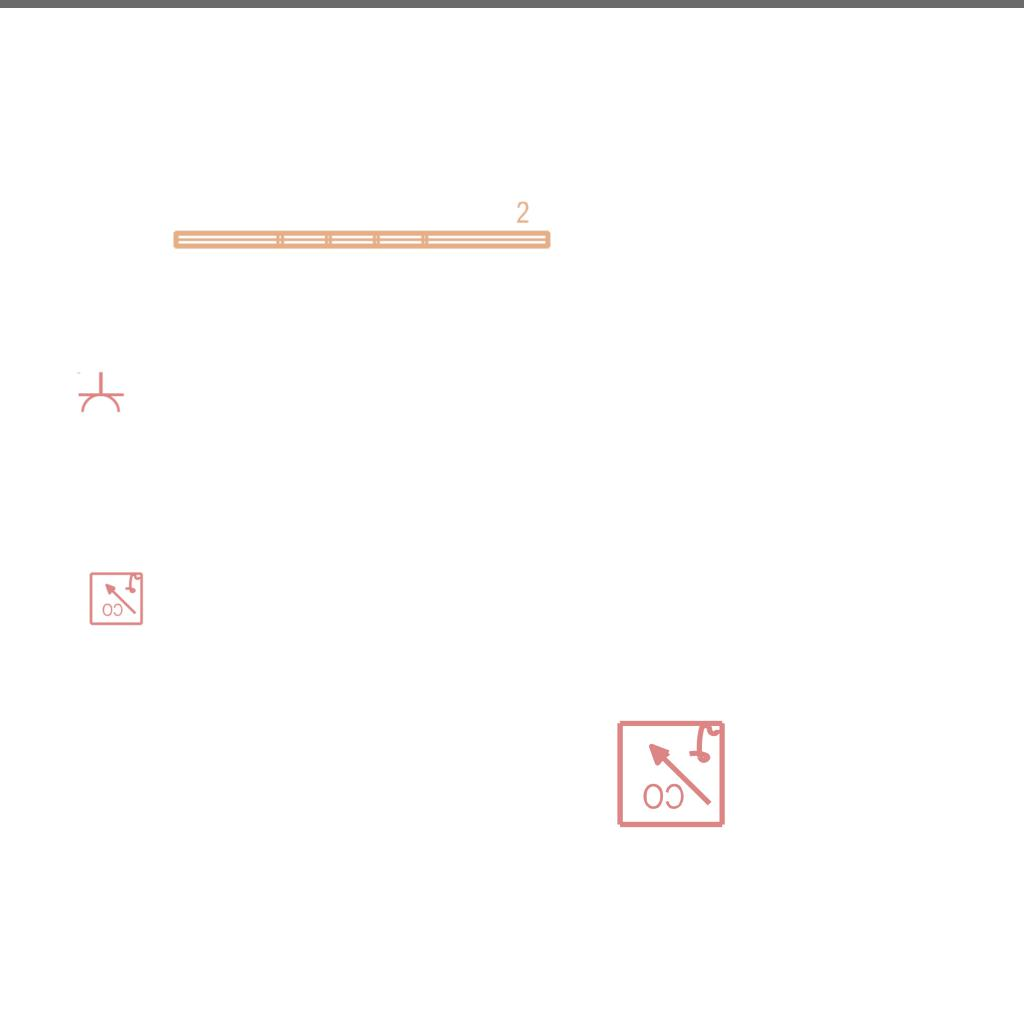Ambulanz_Pendelleuchte_LED: (168, 199, 555, 255)
ROA_Rauchmelder_optisch_mit_Signalgeber_(Sockelsirene): (614, 716, 727, 829), (88, 570, 144, 626)
Schukosteckdose_einfach: (75, 371, 125, 414)
